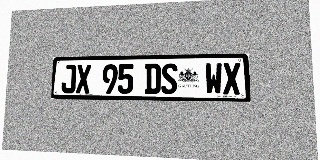5: (118, 64, 134, 94)
9: (102, 64, 118, 94)
D: (144, 63, 161, 94)
J: (61, 65, 76, 93)
S: (161, 63, 177, 94)
W: (205, 63, 222, 94)
X: (223, 62, 241, 95), (76, 64, 91, 93)
